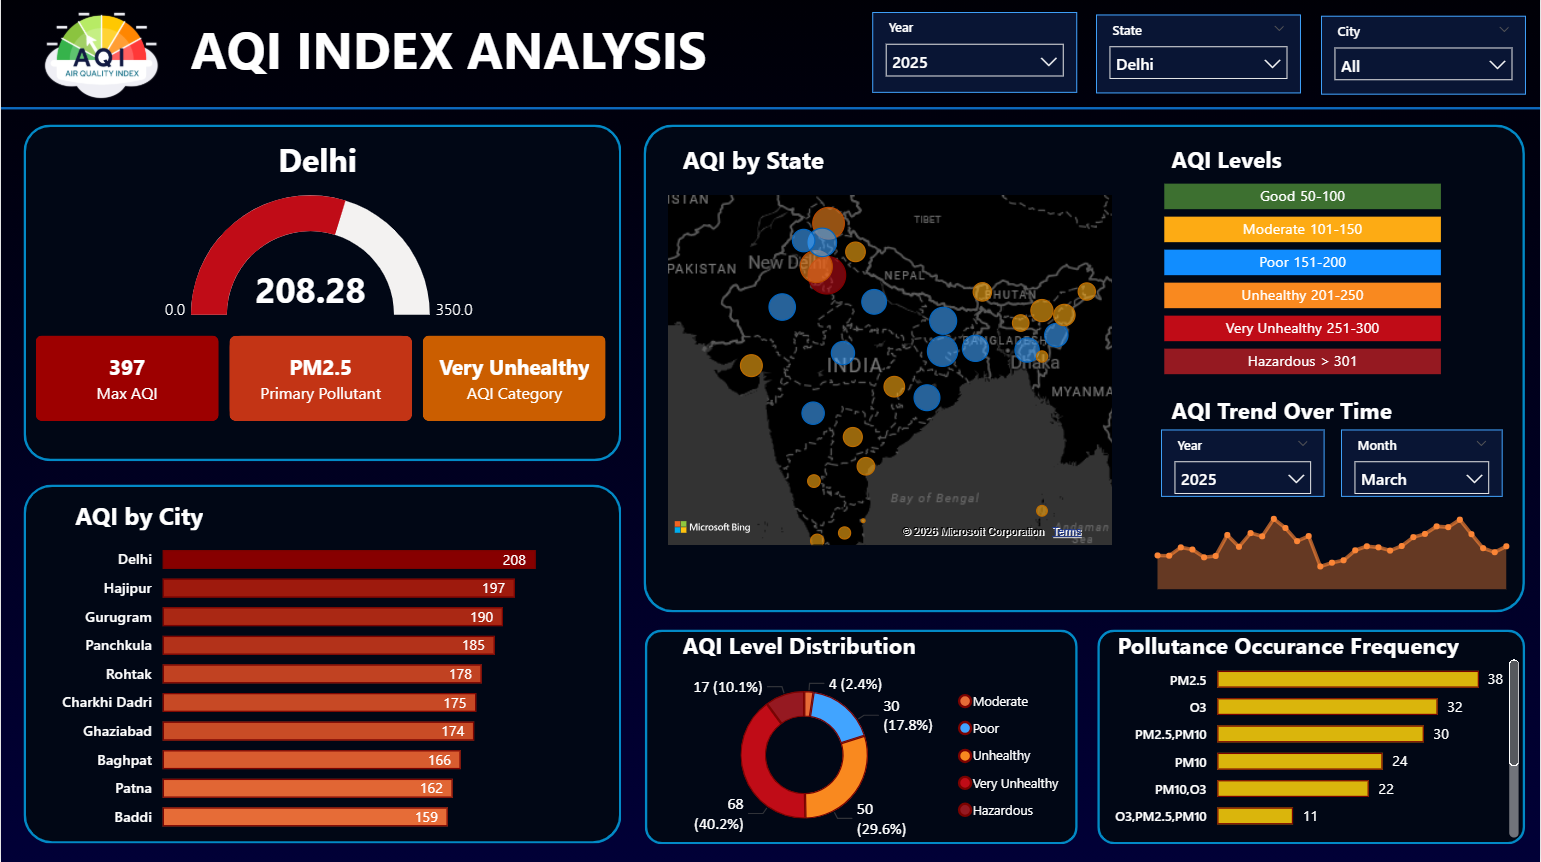

The page's visual inventory and layout, read from the dashboard file:
{"tool":"powerbi","page":{"name":"AQI Level Analysis","canvas":[1280,720],"ordinal":0},"visuals":[{"type":"textbox","box":[152.9,8.6,447.1,78.6],"z":0},{"type":"shape","box":[18.6,105.7,497.1,280],"z":1000},{"type":"image","box":[34.3,4.3,98.6,88.6],"z":2000},{"type":"gauge","fields":{"Y":["day_wise_aqi_data.Avg AQI"]},"box":[114.3,160,300,114.3],"z":3000},{"type":"slicer","fields":{"Values":["Calender Table.Year"]},"box":[724.3,12.9,170,67.1],"z":4000},{"type":"slicer","fields":{"Values":["day_wise_aqi_data.state"]},"box":[910.7,14.3,170,65.7],"z":5000},{"type":"slicer","fields":{"Values":["day_wise_aqi_data.area"]},"box":[1097.1,15.7,170,65.7],"z":6000},{"type":"cardVisual","fields":{"Data":["Max(day_wise_aqi_data.aqi_value)","day_wise_aqi_data.Primary Pollutant","day_wise_aqi_data.AQI Category KPI"]},"box":[21.4,274.3,490,85.7],"z":7000},{"type":"cardVisual","fields":{"Data":["day_wise_aqi_data.KPI Title"]},"box":[31.4,105.7,464.3,54.3],"z":8000},{"type":"shape","box":[534.3,105.7,732.9,405.7],"z":9000},{"type":"map","fields":{"Category":["day_wise_aqi_data.state"],"Size":["day_wise_aqi_data.Avg AQI"]},"box":[550,160,378.6,338.6],"z":10000},{"type":"cardVisual","fields":{"Data":["day_wise_aqi_data.State Map Title"]},"box":[550,105.7,287.1,54.3],"z":11000},{"type":"barChart","fields":{"Category":["day_wise_aqi_data.AQI Category"],"Y":["day_wise_aqi_data.Label"]},"box":[962.9,142.9,240,177.1],"z":12000},{"type":"cardVisual","fields":{"Data":["day_wise_aqi_data.AQI Level Title"]},"box":[955.7,105.7,287.1,54.3],"z":13000},{"type":"areaChart","fields":{"Category":["Calender Table.Date.Variation.Date Hierarchy.Day"],"Y":["day_wise_aqi_data.Avg AQI"]},"box":[947.1,411.4,320,87.1],"z":14000},{"type":"slicer","fields":{"Values":["Calender Table.Date.Variation.Date Hierarchy.Year"]},"box":[964.3,360,135.7,55.7],"z":15000},{"type":"shape","box":[18.6,405.7,497.1,298.6],"z":16000},{"type":"slicer","fields":{"Values":["Calender Table.Date.Variation.Date Hierarchy.Month"]},"box":[1114.3,360,134.3,55.7],"z":17000},{"type":"cardVisual","fields":{"Data":["day_wise_aqi_data.Title for City"]},"box":[44.3,407.1,287.1,44.3],"z":18000},{"type":"barChart","fields":{"Category":["day_wise_aqi_data.area"],"Y":["day_wise_aqi_data.Avg AQI"]},"box":[44.3,437.1,467.1,267.1],"z":19000},{"type":"cardVisual","fields":{"Data":["day_wise_aqi_data.Title for Monthly Chart"]},"box":[955.7,324.3,287.1,35.7],"z":20000},{"type":"shape","box":[535.7,525.7,360,178.6],"z":21000},{"type":"donutChart","fields":{"Y":["day_wise_aqi_data.Count of Rows"],"Category":["day_wise_aqi_data.AQI Category"]},"box":[535.7,555.7,358.6,148.6],"z":22000},{"type":"cardVisual","fields":{"Data":["day_wise_aqi_data.Dount Title"]},"box":[550,520,287.1,35.7],"z":23000},{"type":"shape","box":[911.4,525.7,355.7,178.6],"z":24000},{"type":"clusteredBarChart","fields":{"Y":["day_wise_aqi_data.Count of Rows"],"Category":["day_wise_aqi_data.prominent_pollutants"]},"box":[911.4,538.6,355.7,165.7],"z":25000},{"type":"cardVisual","fields":{"Data":["day_wise_aqi_data.Pollutant Title"]},"box":[911.4,520,320,35.7],"z":26000},{"type":"shape","box":[0,70,1280,45.7],"z":27000}]}

Visuals, with their boxes in screenshot pixels (x1, y1, x2, y2), scaled from the page's 1280x720 canvas onto the 1541x862 screenshot:
textbox: locate(184, 10, 722, 104)
shape: locate(22, 127, 621, 462)
image: locate(41, 5, 160, 111)
gauge - day_wise_aqi_data.Avg AQI: locate(138, 192, 499, 328)
slicer - Calender Table.Year: locate(872, 15, 1077, 96)
slicer - day_wise_aqi_data.state: locate(1096, 17, 1301, 96)
slicer - day_wise_aqi_data.area: locate(1321, 19, 1525, 97)
cardVisual - Max(day_wise_aqi_data.aqi_value) x day_wise_aqi_data.Primary Pollutant: locate(26, 328, 616, 431)
cardVisual - day_wise_aqi_data.KPI Title: locate(38, 127, 597, 192)
shape: locate(643, 127, 1526, 612)
map - day_wise_aqi_data.state x day_wise_aqi_data.Avg AQI: locate(662, 192, 1118, 597)
cardVisual - day_wise_aqi_data.State Map Title: locate(662, 127, 1008, 192)
barChart - day_wise_aqi_data.AQI Category x day_wise_aqi_data.Label: locate(1159, 171, 1448, 383)
cardVisual - day_wise_aqi_data.AQI Level Title: locate(1151, 127, 1496, 192)
areaChart - Calender Table.Date.Variation.Date Hierarchy.Day x day_wise_aqi_data.Avg AQI: locate(1140, 493, 1525, 597)
slicer - Calender Table.Date.Variation.Date Hierarchy.Year: locate(1161, 431, 1324, 498)
shape: locate(22, 486, 621, 843)
slicer - Calender Table.Date.Variation.Date Hierarchy.Month: locate(1342, 431, 1503, 498)
cardVisual - day_wise_aqi_data.Title for City: locate(53, 487, 399, 540)
barChart - day_wise_aqi_data.area x day_wise_aqi_data.Avg AQI: locate(53, 523, 616, 843)
cardVisual - day_wise_aqi_data.Title for Monthly Chart: locate(1151, 388, 1496, 431)
shape: locate(645, 629, 1078, 843)
donutChart - day_wise_aqi_data.Count of Rows x day_wise_aqi_data.AQI Category: locate(645, 665, 1077, 843)
cardVisual - day_wise_aqi_data.Dount Title: locate(662, 623, 1008, 665)
shape: locate(1097, 629, 1525, 843)
clusteredBarChart - day_wise_aqi_data.Count of Rows x day_wise_aqi_data.prominent_pollutants: locate(1097, 645, 1525, 843)
cardVisual - day_wise_aqi_data.Pollutant Title: locate(1097, 623, 1482, 665)
shape: locate(0, 84, 1540, 139)
